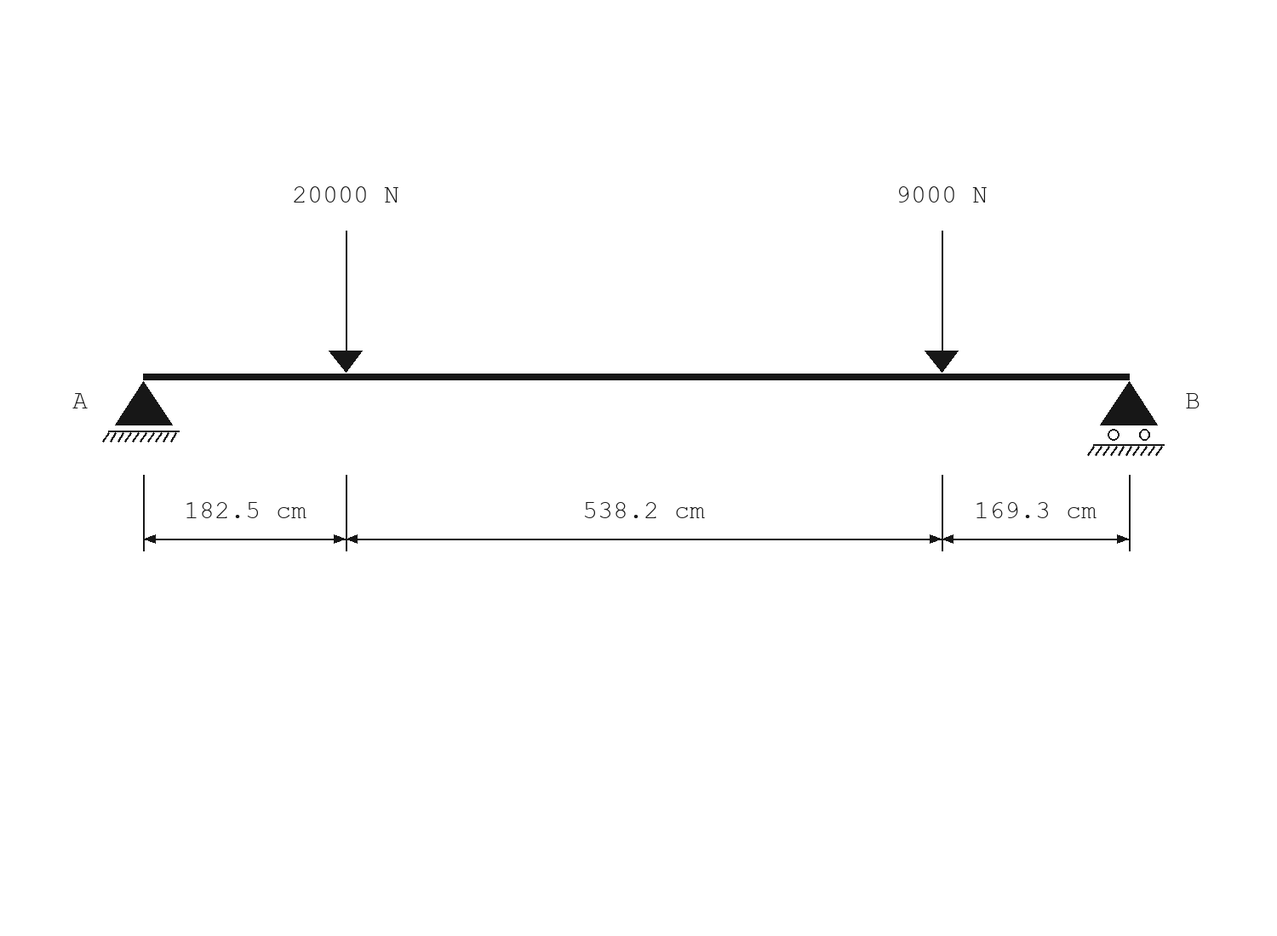pin_support: (102, 381, 180, 442)
point_load: (329, 231, 363, 373), (925, 231, 959, 373)
roller_support: (1087, 381, 1165, 456)
